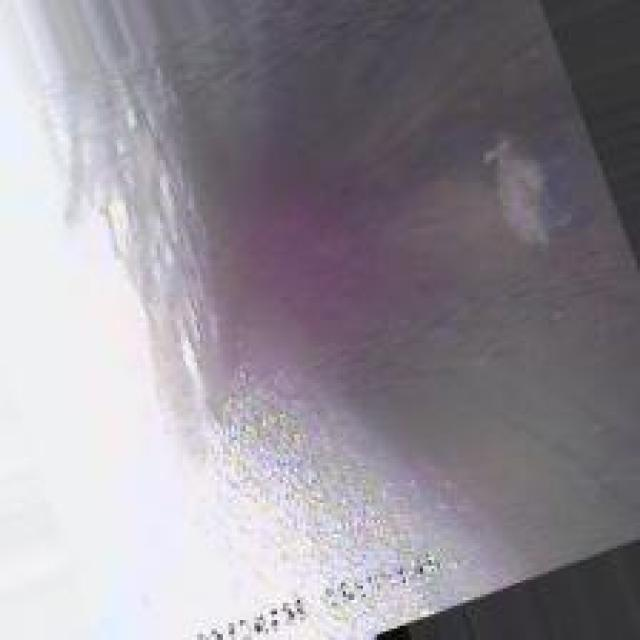ferrule: (480, 134, 574, 252)
